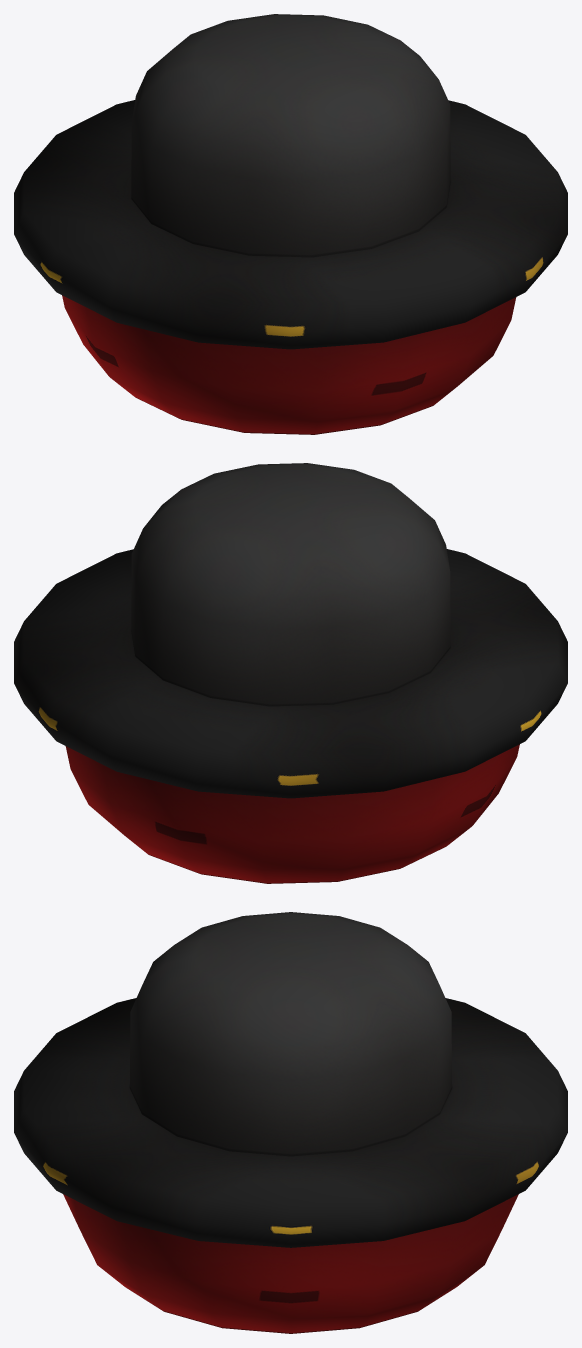
The picture shows the model from 3 angles, top to bottom: view 1: azimuth 30°, elevation 25°; view 2: azimuth 150°, elevation 25°; view 3: azimuth 270°, elevation 25°; orthographic projection.
Parts seen in each view (by area): view 1: S021; view 2: S021; view 3: S021.
Part boxes in pixels (box(x1,y1,x2,y2)): S021: box(14, 14, 567, 434); S021: box(14, 463, 567, 883); S021: box(14, 912, 567, 1333).
Bounding box in the file's own units: 39.88 × 25.3 × 39.27.
Materials: 1 (1 with a texture image).
